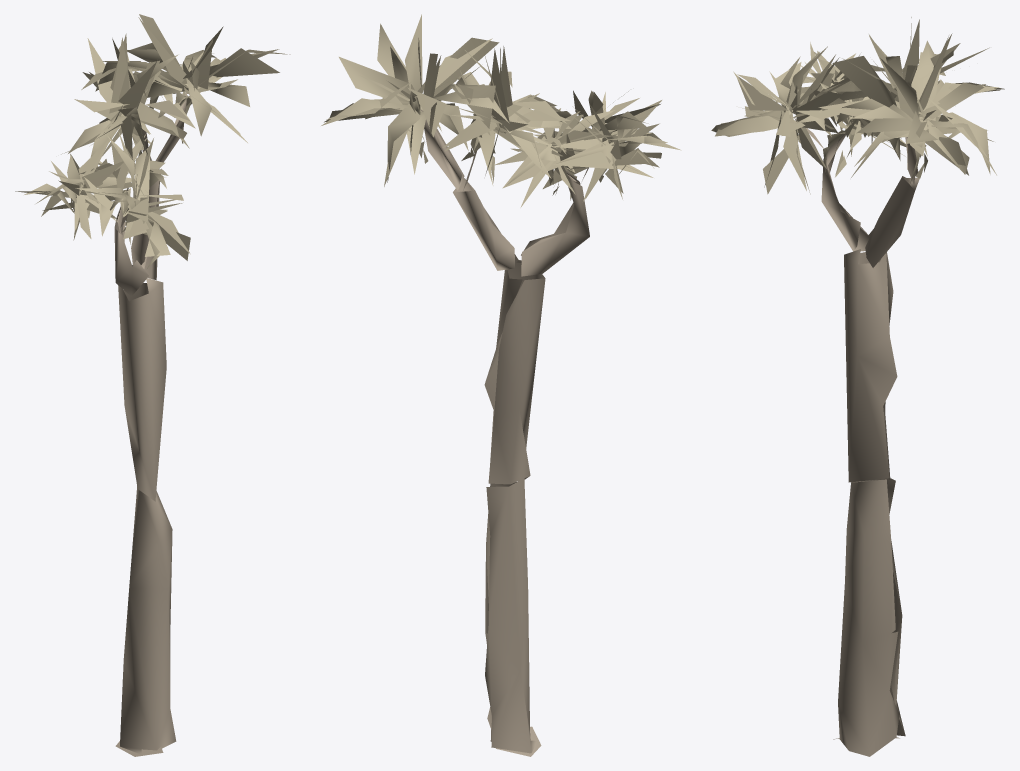
Rendered from tree-quiver-lod1.glb.
The picture shows the model from 3 angles, left to right: view 1: azimuth 30°, elevation 25°; view 2: azimuth 150°, elevation 25°; view 3: azimuth 270°, elevation 25°; orthographic projection. The views are drawn at different scales.
Visible parts, largest first — view 1: tree-quiver; view 2: tree-quiver; view 3: tree-quiver.
Part boxes in pixels (box(x1,y1,x2,y2)): tree-quiver: box(15, 14, 290, 756); tree-quiver: box(321, 14, 681, 756); tree-quiver: box(711, 17, 1004, 756).
Bounding box in the file's own units: 2.17 × 4.97 × 1.81.
